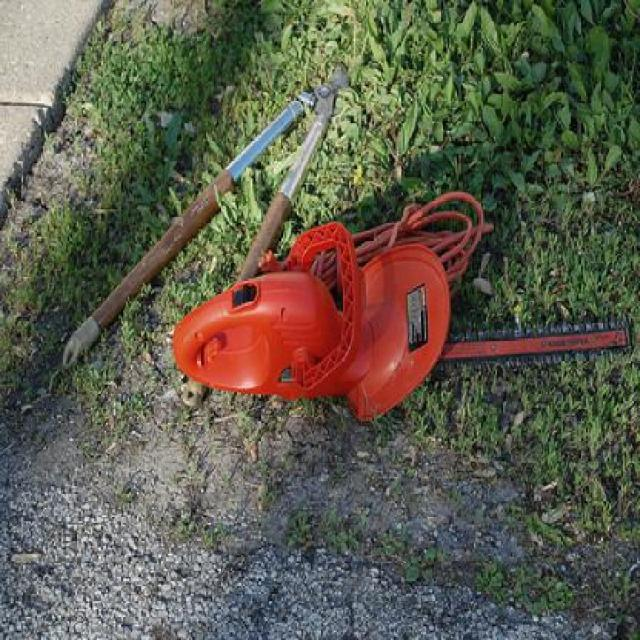Chainsaw: (158, 165, 637, 452)
